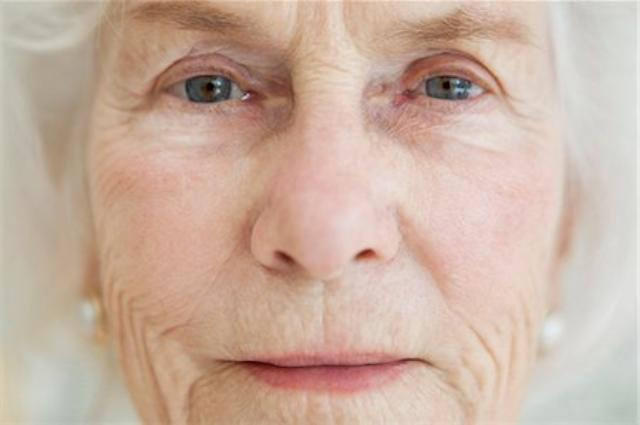frown_line: (293, 51, 349, 76)
masseter: (114, 291, 150, 347), (468, 323, 498, 365)
